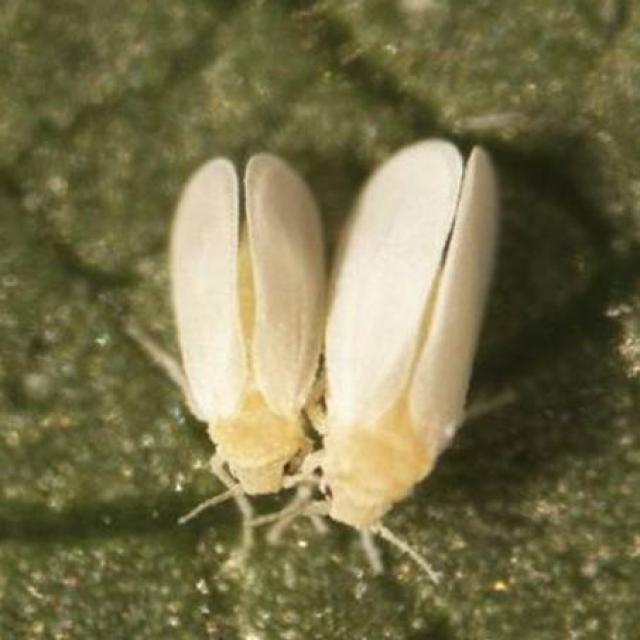whiteflies: (110, 133, 332, 541), (306, 130, 498, 582)
